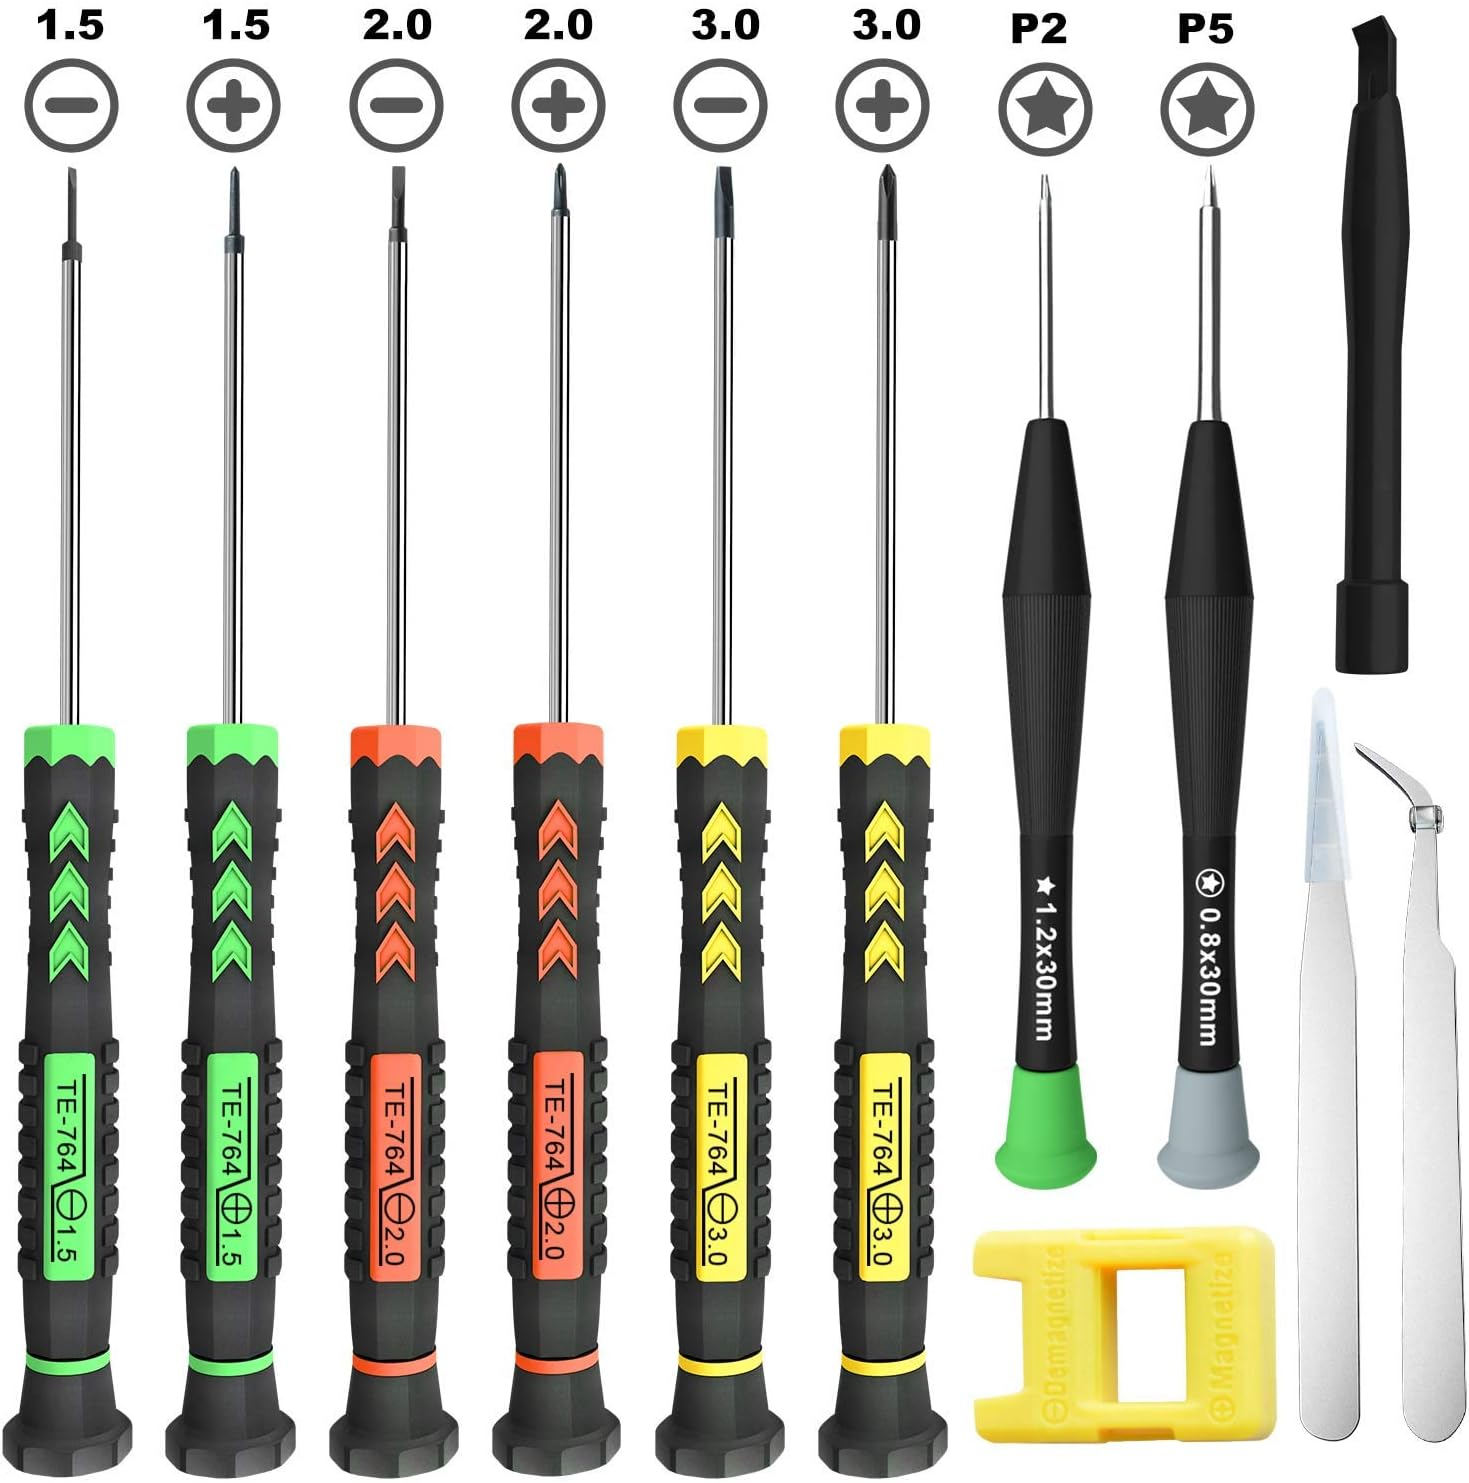screwdriver: (1, 163, 147, 1483), (160, 166, 300, 1482), (326, 166, 463, 1479), (817, 160, 950, 1483), (654, 168, 786, 1474), (490, 161, 620, 1476), (991, 179, 1100, 1194), (1156, 163, 1263, 1188)
